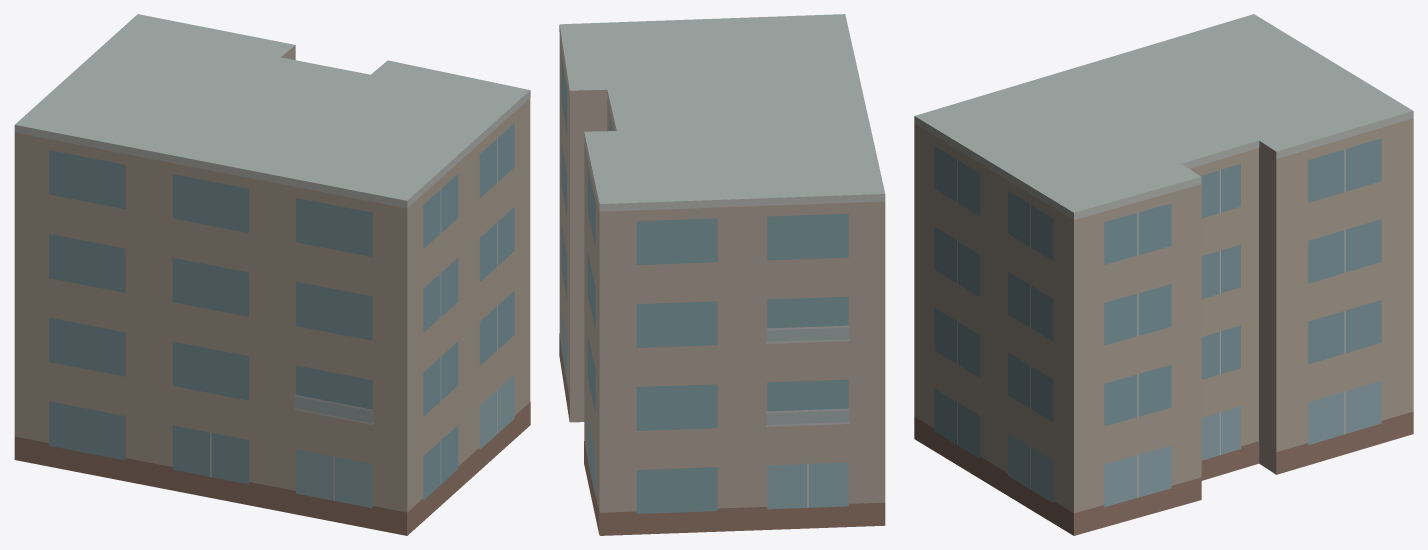
File: survey-upis-32916134.glb
3 renders of one model, left to right at view 1: azimuth 30°, elevation 25°; view 2: azimuth 150°, elevation 25°; view 3: azimuth 270°, elevation 25°, orthographic. The views are drawn at different scales.
Visible parts, largest first — view 1: survey-upis-32916134.tmp; view 2: survey-upis-32916134.tmp; view 3: survey-upis-32916134.tmp.
Boxes of the visible parts, x1,y1,x2,y2 form: survey-upis-32916134.tmp: (14, 14, 530, 535); survey-upis-32916134.tmp: (559, 14, 885, 535); survey-upis-32916134.tmp: (914, 14, 1413, 535).
Bounding box in the file's own units: 14.1 × 10.68 × 14.96.
